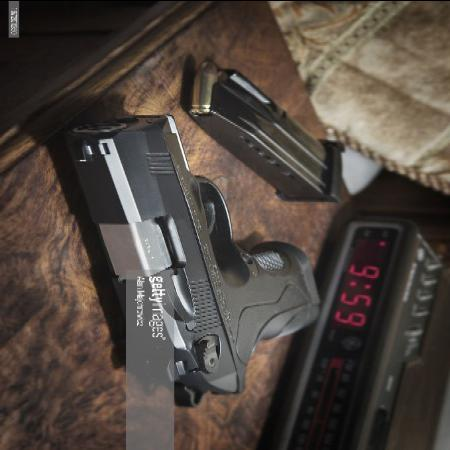Pistol: (49, 110, 330, 414)
